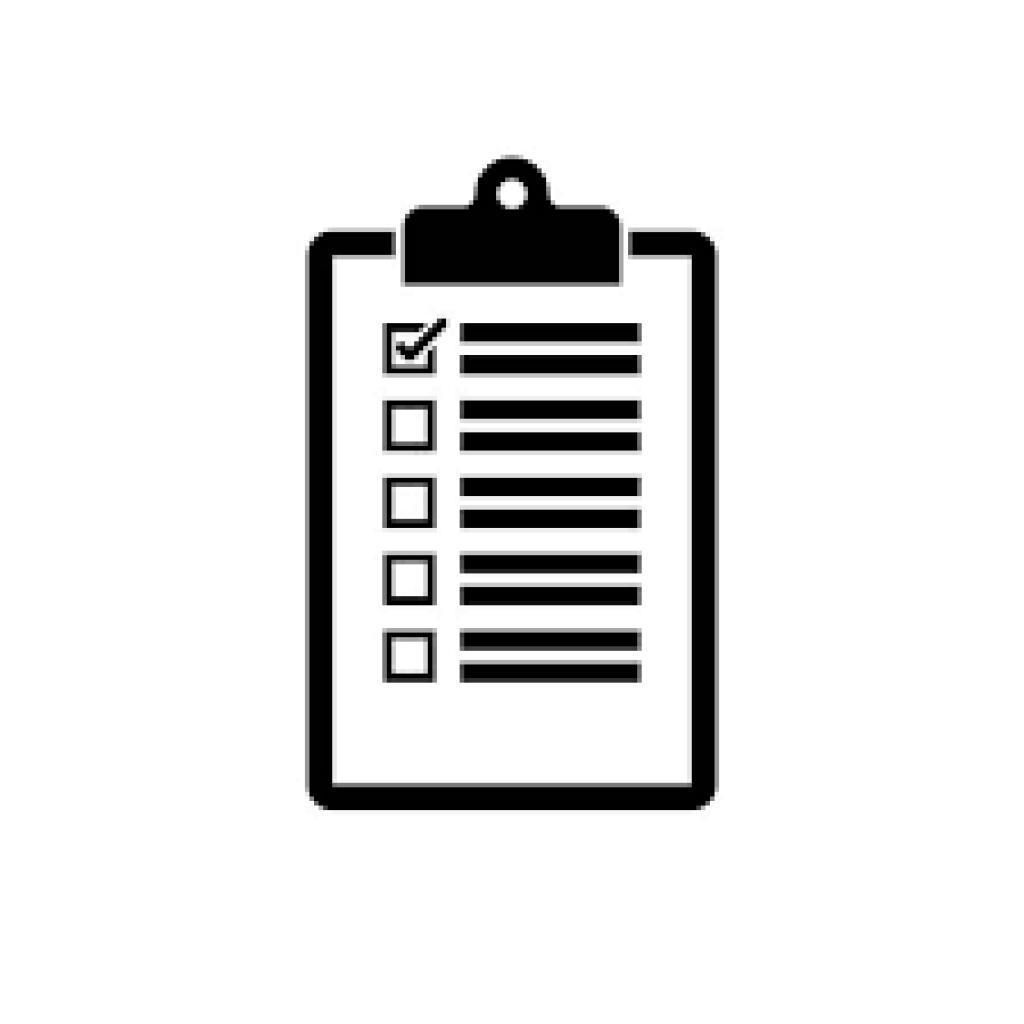checkbox: (384, 322, 446, 377), (381, 552, 438, 608), (382, 630, 440, 685), (381, 475, 438, 529), (382, 399, 438, 452)
